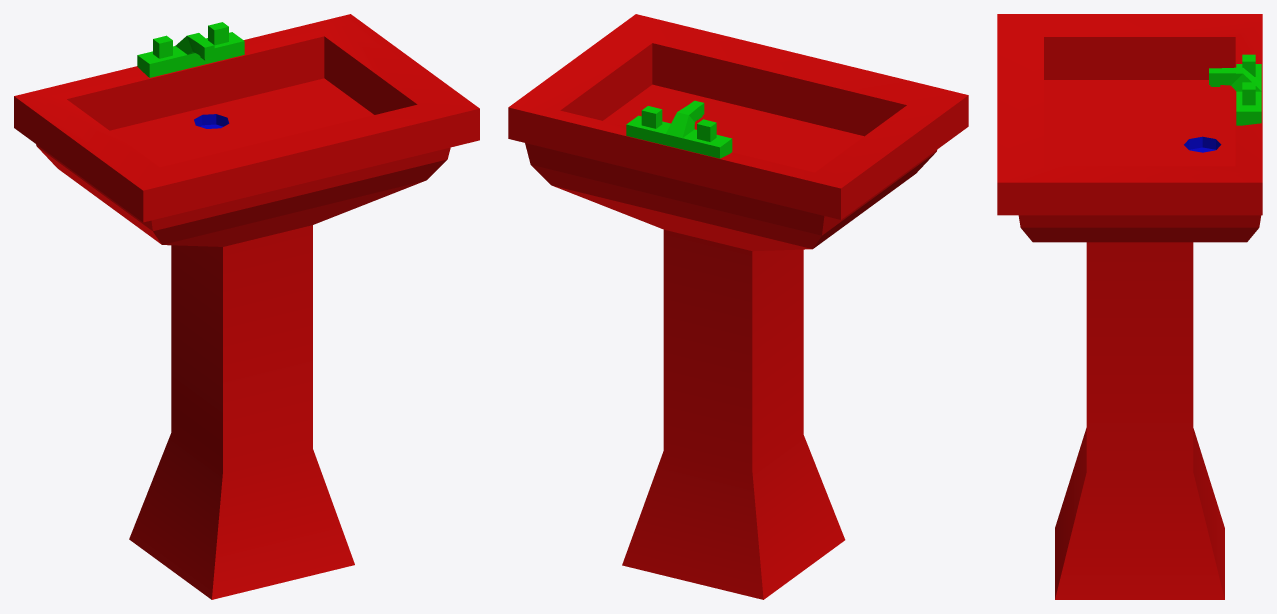
File: SM_BathroomSink.fbx
The picture shows the model from 3 angles, left to right: view 1: azimuth 30°, elevation 25°; view 2: azimuth 150°, elevation 25°; view 3: azimuth 270°, elevation 25°; orthographic projection. The views are drawn at different scales.
Visible parts, largest first — view 1: polySurface53; view 2: polySurface53; view 3: polySurface53.
Part boxes in pixels (<box>): polySurface53: <box>14,14,479,599</box>; polySurface53: <box>508,14,968,599</box>; polySurface53: <box>997,14,1262,599</box>.
Bounding box in the file's own units: 316 × 432 × 210.
